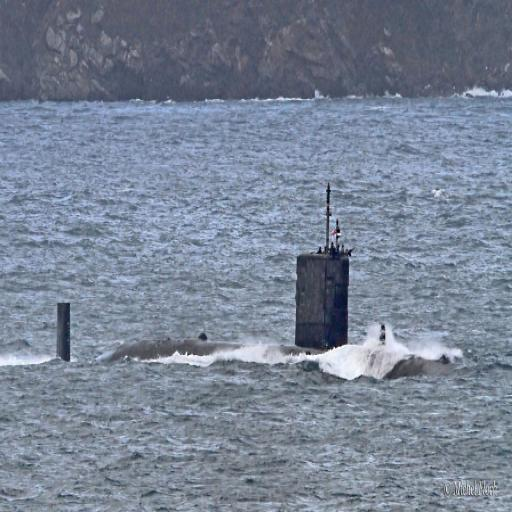submarine: (60, 186, 465, 377)
